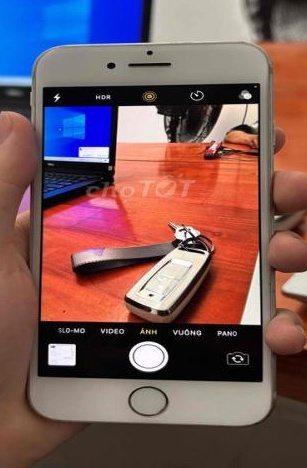scratch: (163, 40, 245, 48), (23, 68, 39, 79), (263, 62, 275, 76)
